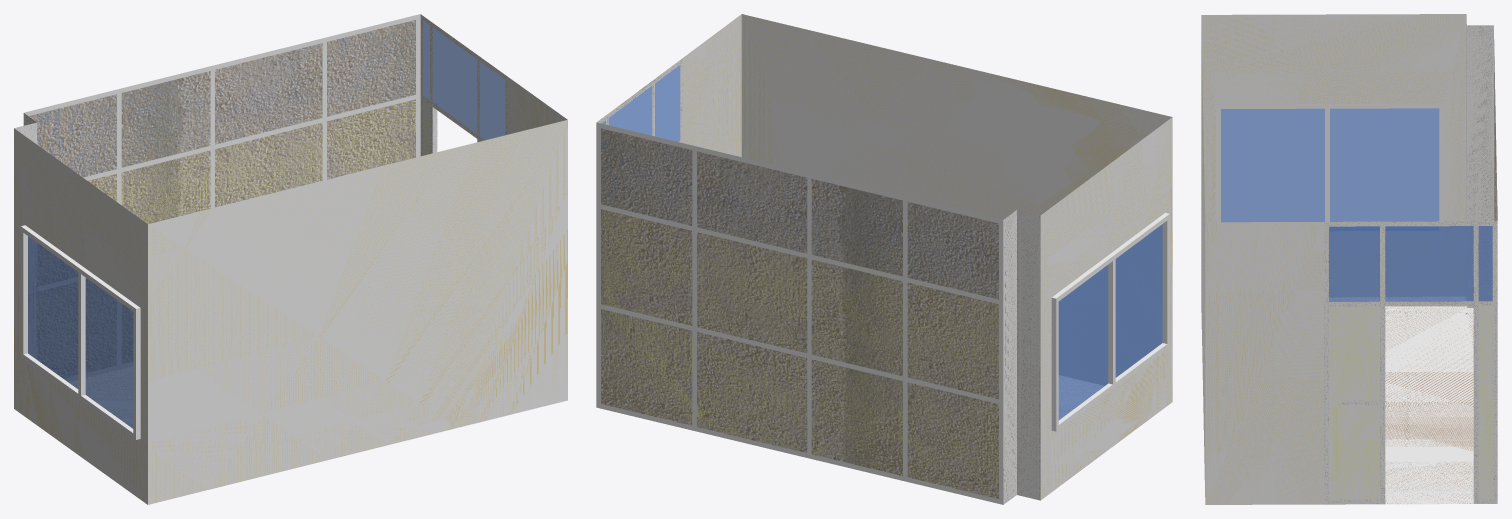
File: DES037.obj
The picture shows the model from 3 angles, left to right: view 1: azimuth 30°, elevation 25°; view 2: azimuth 150°, elevation 25°; view 3: azimuth 270°, elevation 25°; orthographic projection.
Parts seen in each view (by area): view 1: Mesh6 DES037 Model, Mesh1 ventana2_1 DES037 Model; view 2: Mesh6 DES037 Model, Mesh1 ventana2_1 DES037 Model; view 3: Mesh6 DES037 Model, Mesh1 ventana2_1 DES037 Model.
Boxes of the visible parts, bbox=[...] form: Mesh6 DES037 Model: bbox=[14, 14, 567, 504]; Mesh1 ventana2_1 DES037 Model: bbox=[21, 225, 140, 439]; Mesh6 DES037 Model: bbox=[596, 14, 1172, 504]; Mesh1 ventana2_1 DES037 Model: bbox=[1051, 213, 1169, 431]; Mesh6 DES037 Model: bbox=[1201, 14, 1497, 504]; Mesh1 ventana2_1 DES037 Model: bbox=[1215, 103, 1444, 235].
Bounding box in the file's own units: 4.85 × 3 × 2.85.
Materials: 7 (2 with a texture image).
